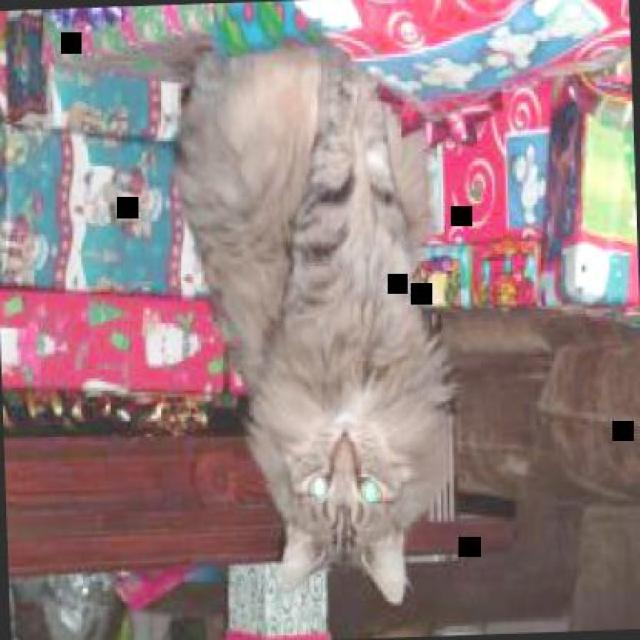cat: (178, 47, 451, 611)
